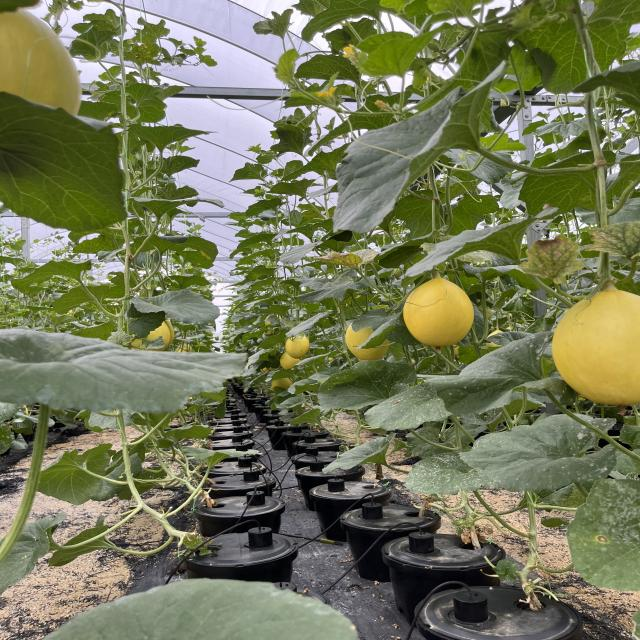CMV: (293, 53, 362, 84), (586, 221, 640, 259), (249, 10, 294, 38), (73, 234, 130, 256), (83, 11, 127, 27)
alternaria leaf blight: (512, 236, 592, 286), (130, 231, 227, 260), (312, 250, 364, 273), (120, 45, 164, 65)
downy mildew: (461, 416, 601, 492), (454, 333, 563, 415), (319, 361, 413, 410), (361, 380, 450, 430), (404, 428, 456, 458), (349, 305, 406, 332), (152, 154, 202, 177), (138, 17, 173, 38)
healthy: (328, 73, 498, 237), (0, 102, 135, 235), (0, 329, 188, 414), (523, 0, 638, 85), (520, 154, 611, 220), (37, 444, 127, 505), (291, 0, 389, 34), (130, 289, 220, 324), (440, 193, 505, 238), (11, 258, 91, 294), (127, 122, 211, 150), (393, 191, 440, 241), (134, 194, 227, 217), (124, 78, 170, 124), (63, 28, 115, 61), (183, 447, 230, 468), (284, 408, 322, 428)
powdery mildew: (398, 454, 516, 498), (317, 432, 400, 474)
